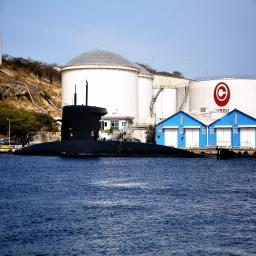submarine: (16, 77, 214, 156)
